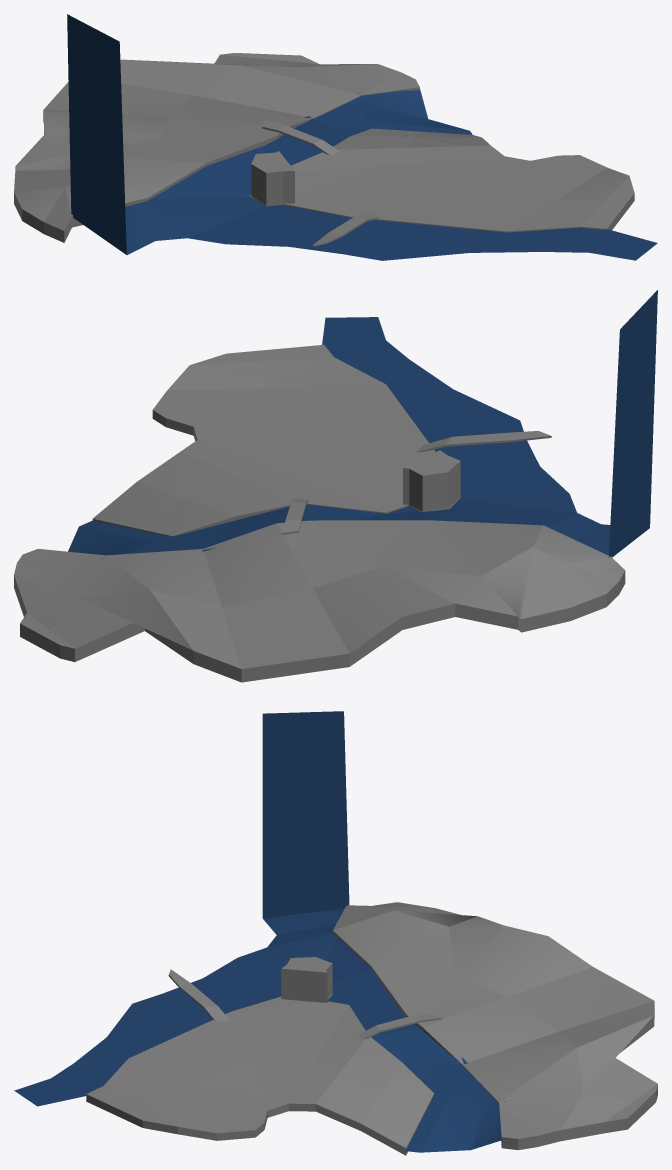
File: 3D_BlockOut_Q5.fbx
3 renders of one model, top to bottom at view 1: azimuth 30°, elevation 25°; view 2: azimuth 150°, elevation 25°; view 3: azimuth 270°, elevation 25°, orthographic. The views are drawn at different scales.
Parts seen in each view (by area): view 1: Q5, Q5_eau, Q5_mur; view 2: Q5, Q5_eau, Q5_mur; view 3: Q5, Q5_eau, Q5_mur.
Boxes of the visible parts, x1,y1,x2,y2 form: Q5: (14,53,634,246); Q5_eau: (67,14,657,260); Q5_mur: (251,151,294,206); Q5: (14,344,625,682); Q5_eau: (68,290,657,558); Q5_mur: (403,450,460,511); Q5: (86,902,657,1155); Q5_eau: (14,711,505,1152); Q5_mur: (281,957,332,1002).
Bounding box in the file's own units: 4268 × 2181 × 5182.
